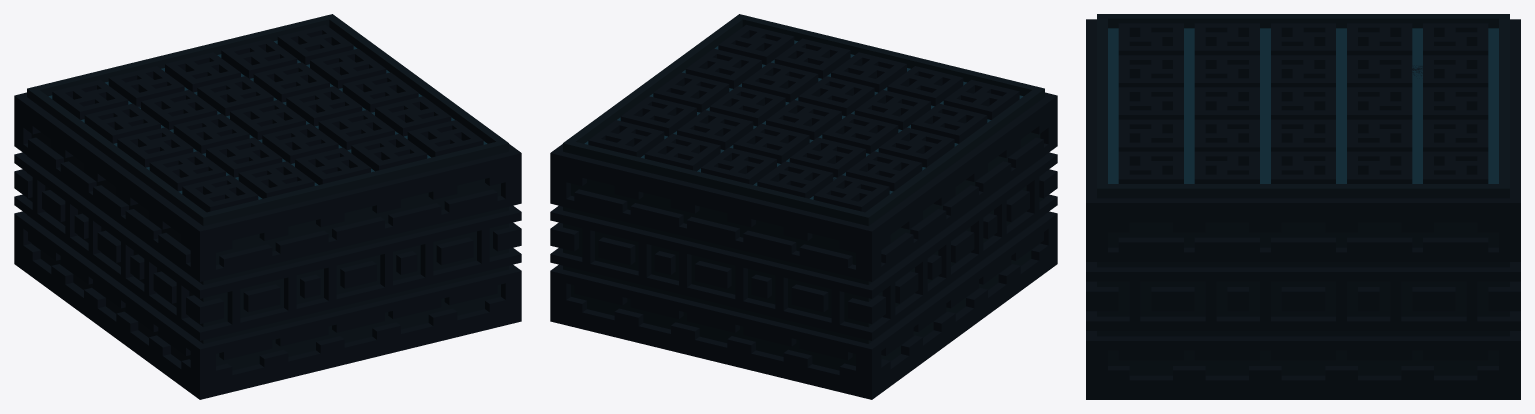
The model's file is Block_2.obj.
3 renders of one model, left to right at view 1: azimuth 30°, elevation 25°; view 2: azimuth 150°, elevation 25°; view 3: azimuth 270°, elevation 25°, orthographic. The views are drawn at different scales.
Size of the model in its own units: 1 by 0.525 by 1.
